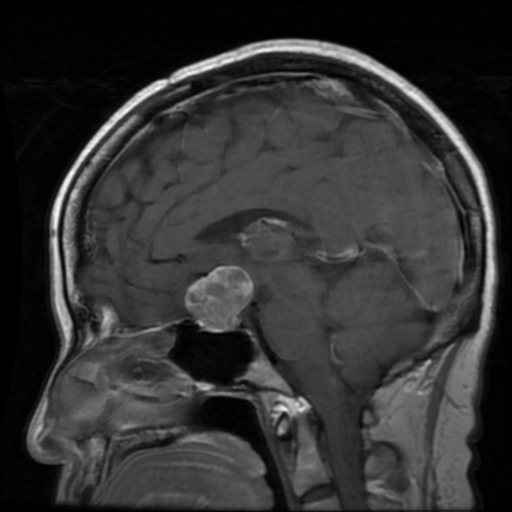pituitary: (184, 264, 253, 331)
